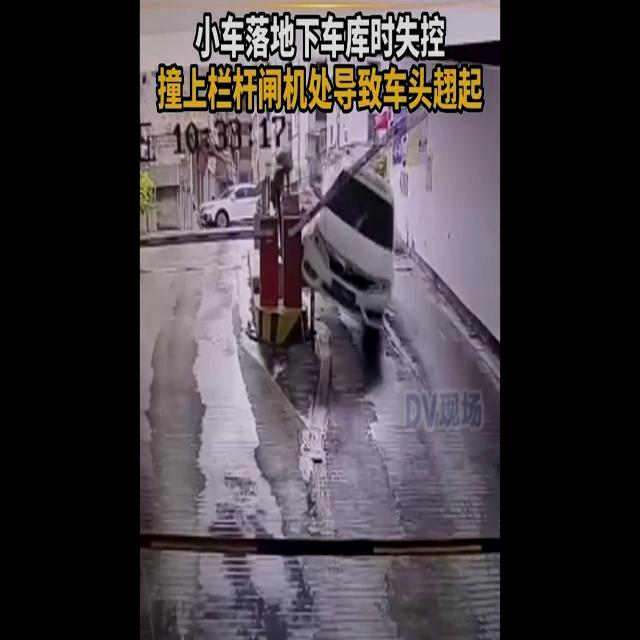accident: (242, 162, 396, 352)
